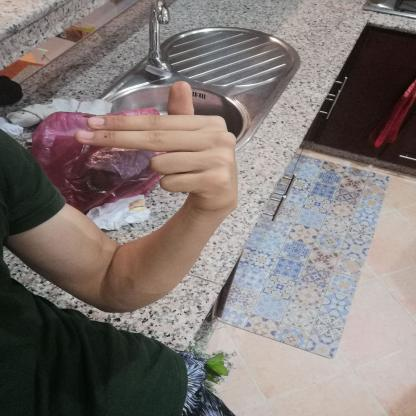GHAYN: (66, 75, 248, 218)
